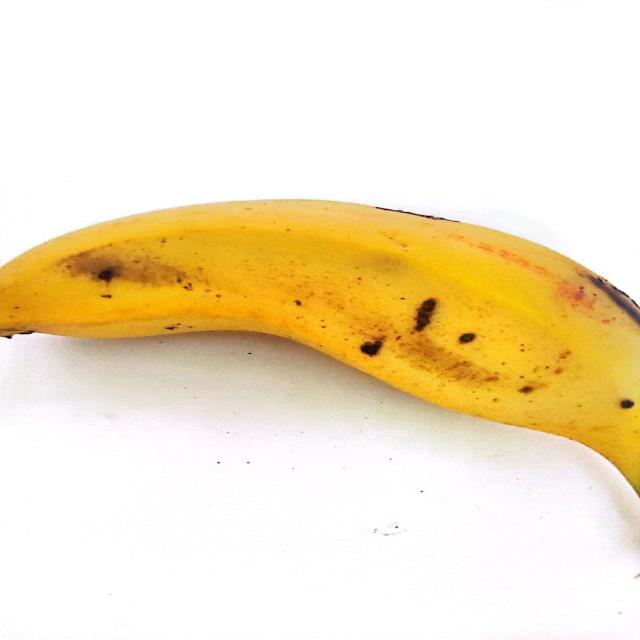fresh_banana: (2, 198, 628, 516)
